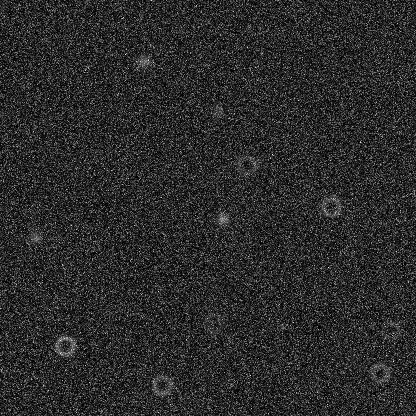Ring: (367, 360, 391, 384), (53, 333, 77, 357), (318, 194, 342, 218), (234, 152, 258, 176), (149, 373, 173, 397), (202, 310, 226, 334), (378, 318, 402, 342)
Spot: (135, 53, 151, 69), (214, 211, 230, 227), (210, 103, 226, 119), (27, 228, 43, 244)
